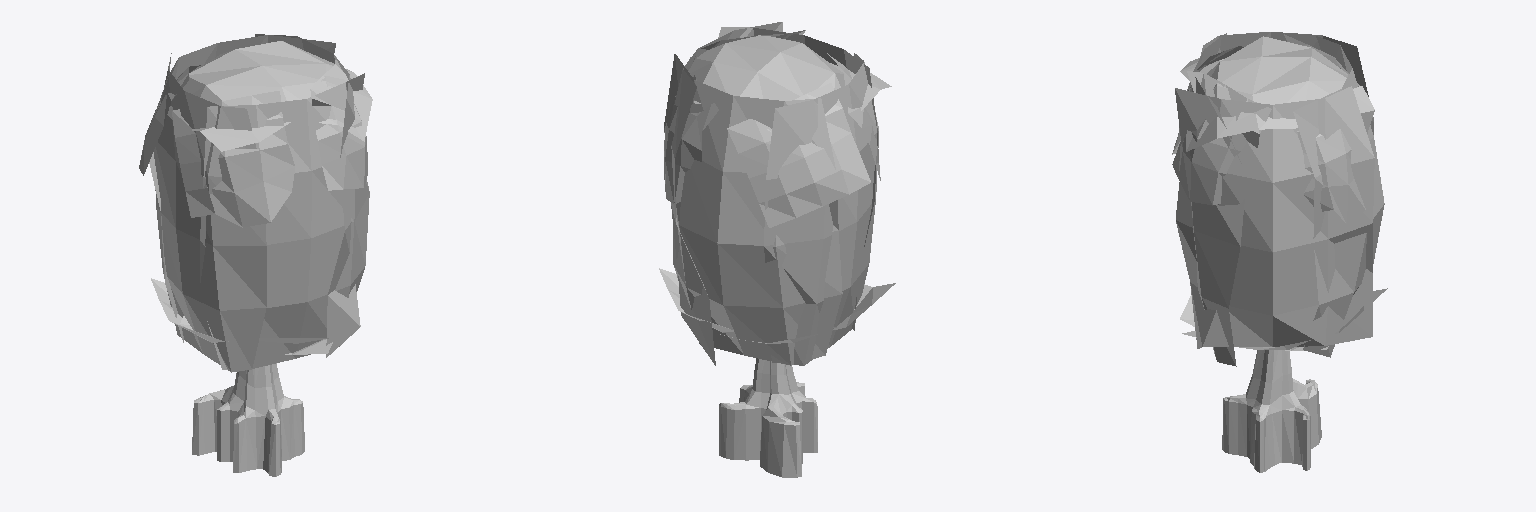
File: tree_2.obj
3 renders of one model, left to right at view 1: azimuth 30°, elevation 25°; view 2: azimuth 150°, elevation 25°; view 3: azimuth 270°, elevation 25°, orthographic.
Bounding box in the file's own units: 6.06 × 10.61 × 5.25.